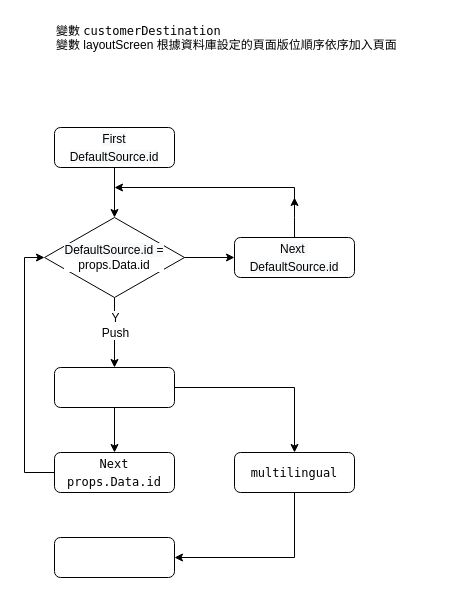
Image size: 462x595. Some labels were removed from this diagram. The box of each missing label's shape, as (x1, y1, x2, y2) in pixels:
customerDestination: (54, 366, 174, 408)
layoutScreen: (54, 536, 174, 578)
